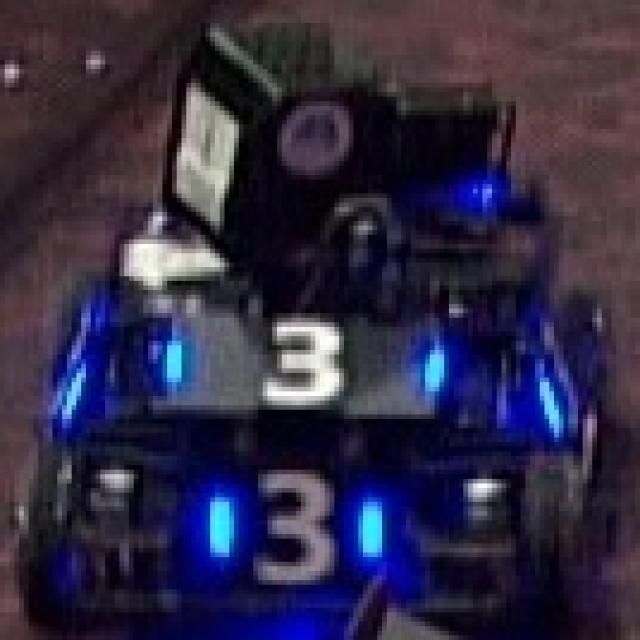B3: (186, 460, 373, 594), (24, 294, 110, 432), (511, 327, 597, 437)
